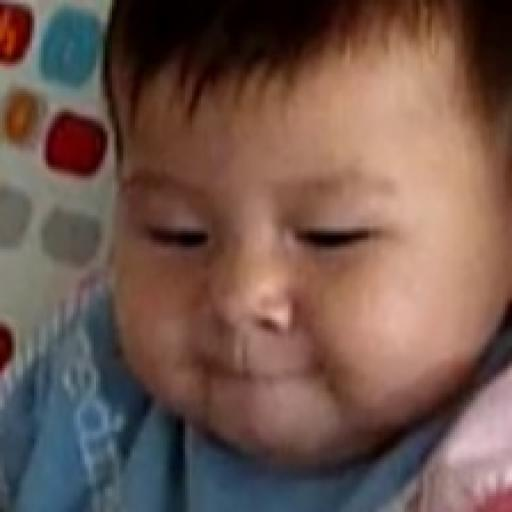Autism: (77, 45, 512, 512)
